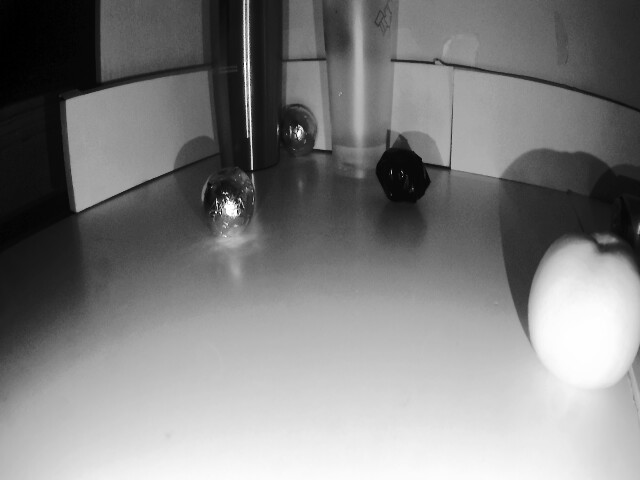black: (195, 166, 256, 224), (274, 104, 323, 162)
silver: (375, 148, 433, 210)
